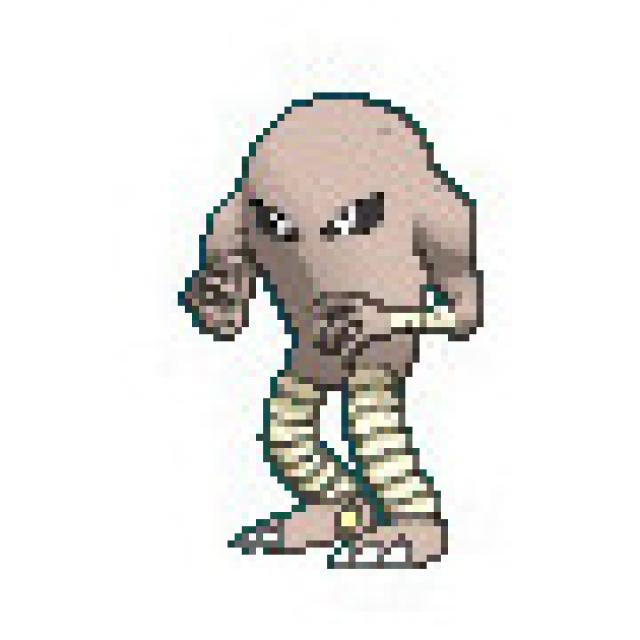Hitmonlee: (182, 91, 484, 566)
